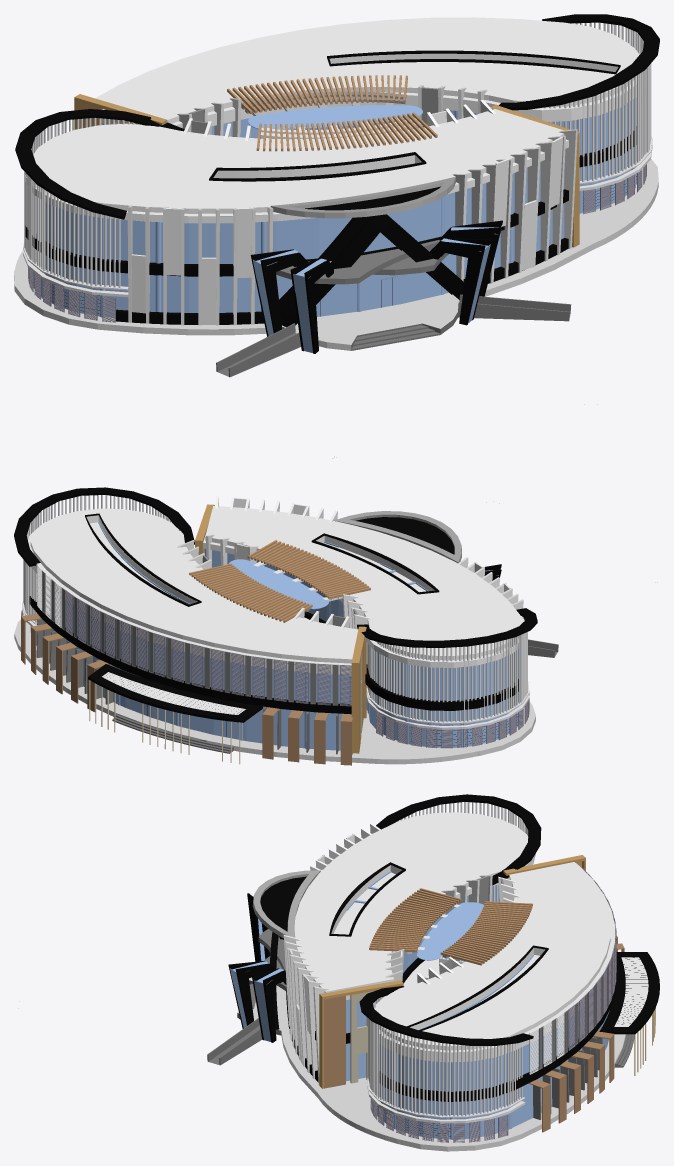
Rendered from optimizeModel_29.glb.
The picture shows the model from 3 angles, top to bottom: view 1: azimuth 30°, elevation 25°; view 2: azimuth 150°, elevation 25°; view 3: azimuth 270°, elevation 25°; orthographic projection. The views are drawn at different scales.
Visible parts, largest first — view 1: Model, Floor; view 2: Model, Floor; view 3: Model, Floor.
Boxes of the visible parts, bbox=[...] form: Model: bbox=[14, 14, 659, 377]; Floor: bbox=[14, 159, 658, 344]; Model: bbox=[14, 487, 558, 765]; Floor: bbox=[14, 619, 535, 759]; Model: bbox=[207, 794, 659, 1151]; Floor: bbox=[237, 977, 625, 1146].
Bounding box in the file's own units: 63.78 × 14.21 × 70.54.
